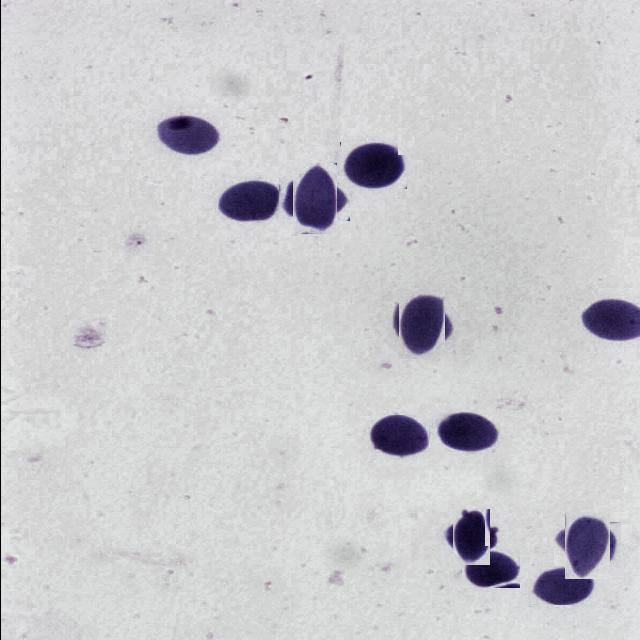red blood cell: (284, 170, 342, 228), (393, 296, 450, 354), (339, 142, 406, 190), (558, 517, 614, 573), (214, 179, 282, 224), (152, 113, 222, 156), (526, 566, 596, 608), (433, 412, 500, 454), (368, 414, 428, 458), (446, 514, 494, 560), (461, 550, 519, 588)
